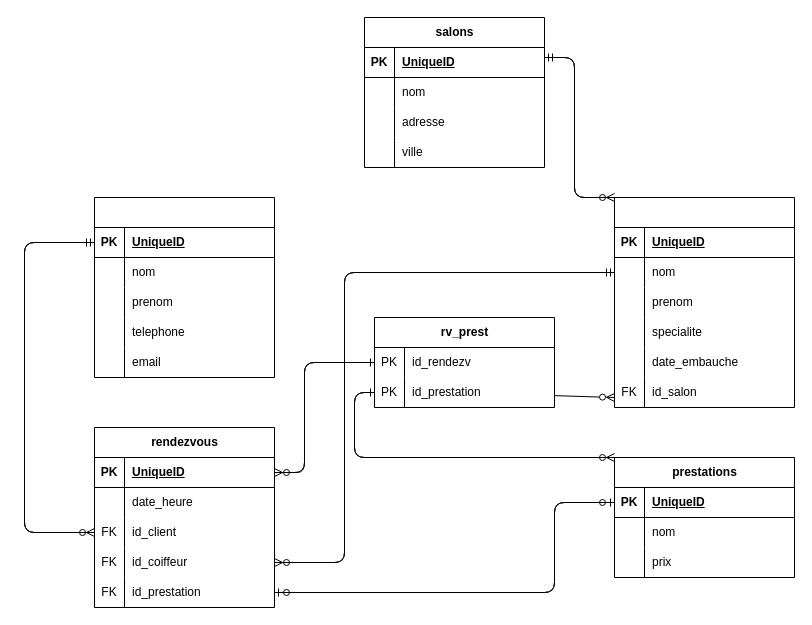
Image size: 812x625. Some labels were removed from this diagram. The box of each missing label's shape, as (x1, y1, x2, y2) in pixels:
clients: (94, 196, 274, 378)
coiffeurs: (614, 196, 794, 408)
